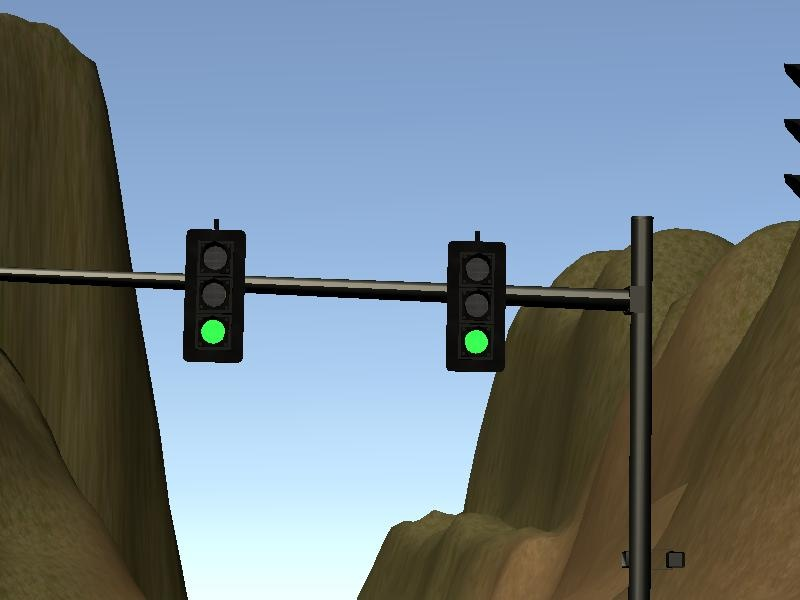GREEN: (181, 228, 242, 363), (446, 241, 506, 374)
